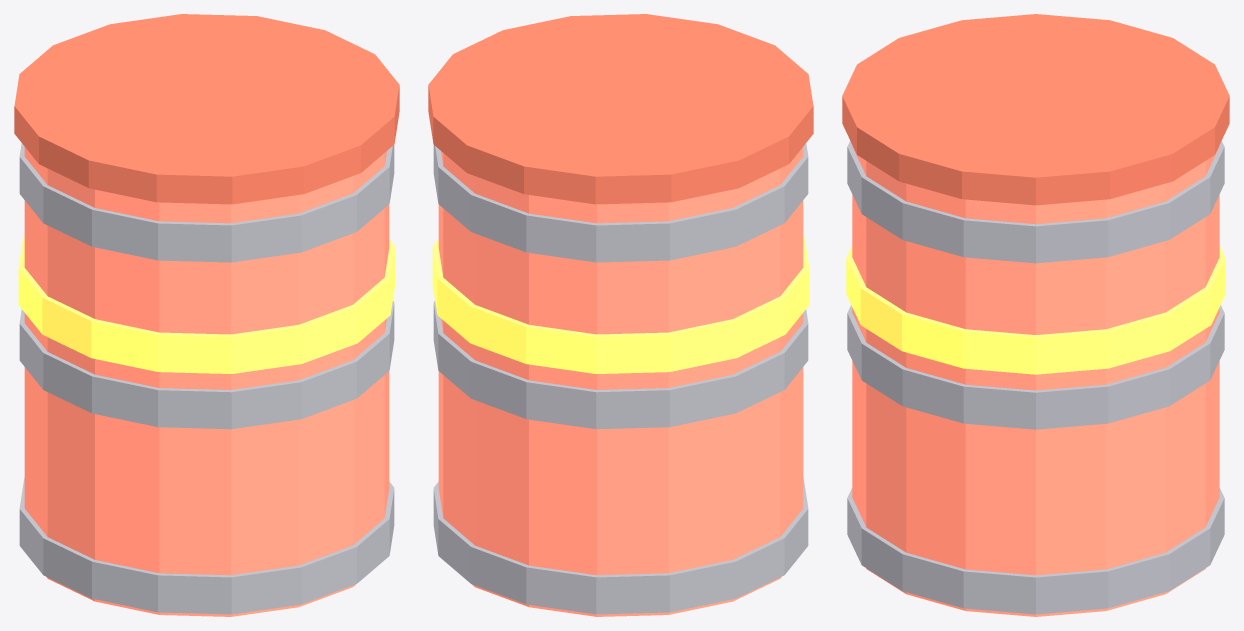
Rendered from explosive_barrel.glb.
3 views of the same model, side by side, from view 1: azimuth 30°, elevation 25°; view 2: azimuth 150°, elevation 25°; view 3: azimuth 270°, elevation 25° (orthographic).
Parts seen in each view (by area): view 1: explosive_barrel; view 2: explosive_barrel; view 3: explosive_barrel.
Boxes of the visible parts, box(x1,y1,x2,y2) form: explosive_barrel: box(14, 14, 399, 616); explosive_barrel: box(428, 14, 813, 616); explosive_barrel: box(842, 14, 1229, 616).
Size of the model in its own units: 0.38 by 0.48 by 0.38.
